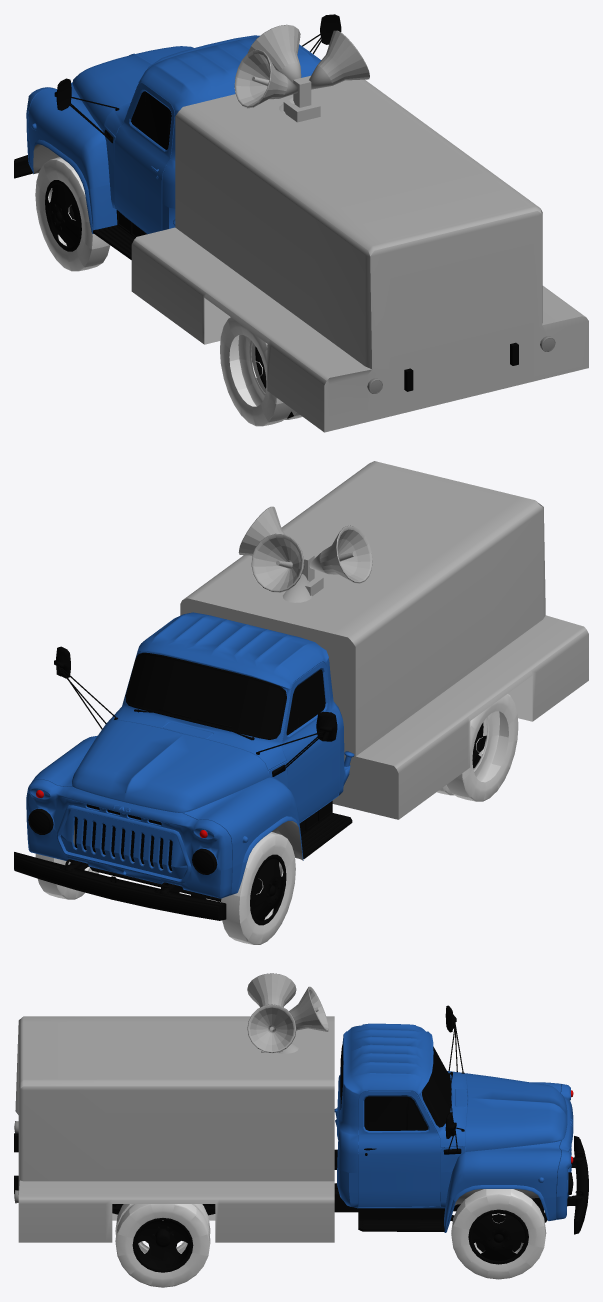
The model's file is ice cream truck.fbx.
The picture shows the model from 3 angles, top to bottom: view 1: azimuth 30°, elevation 25°; view 2: azimuth 150°, elevation 25°; view 3: azimuth 270°, elevation 25°; orthographic projection. The views are drawn at different scales.
Visible parts, largest first — view 1: pCube1, cabina, polySurface1, door_lf_ok, wheel_rb_w, wheel01, bonnet_ok, Object06, chassis, Object01, interior; view 2: pCube1, cabina, FRNT_Latti, bonnet_ok, windscreen, polySurface1, door_lf_ok, bump_front, wheel_rb_w, wheel01, interior, chassis (+5 smaller); view 3: pCube1, cabina, door_rf_ok, bonnet_ok, wheel, polySurface1, wheel_rb, chassis, Object03, Object04, Object02, FRNT_Latti (+4 smaller).
Boxes of the visible parts, x1=… form: pCube1: x1=131, y1=75, x2=588, y2=432; cabina: x1=28, y1=35, x2=321, y2=234; polySurface1: x1=234, y1=24, x2=369, y2=122; door_lf_ok: x1=114, y1=82, x2=174, y2=233; wheel_rb_w: x1=220, y1=317, x2=292, y2=426; wheel01: x1=35, y1=157, x2=110, y2=271; bonnet_ok: x1=72, y1=46, x2=193, y2=130; Object06: x1=45, y1=180, x2=81, y2=251; chassis: x1=93, y1=210, x2=518, y2=391; Object01: x1=132, y1=92, x2=171, y2=149; interior: x1=54, y1=14, x2=341, y2=143; pCube1: x1=180, y1=461, x2=588, y2=819; cabina: x1=32, y1=612, x2=354, y2=895; FRNT_Latti: x1=26, y1=779, x2=232, y2=898; bonnet_ok: x1=72, y1=720, x2=268, y2=812; windscreen: x1=127, y1=655, x2=284, y2=737; polySurface1: x1=238, y1=506, x2=372, y2=595; door_lf_ok: x1=281, y1=662, x2=339, y2=822; bump_front: x1=14, y1=852, x2=226, y2=920; wheel_rb_w: x1=447, y1=694, x2=518, y2=801; wheel01: x1=221, y1=832, x2=295, y2=944; interior: x1=54, y1=646, x2=337, y2=776; chassis: x1=69, y1=800, x2=352, y2=901; pCube1: x1=15, y1=1016, x2=334, y2=1242; cabina: x1=334, y1=1023, x2=561, y2=1232; door_rf_ok: x1=358, y1=1091, x2=440, y2=1206; bonnet_ok: x1=465, y1=1073, x2=567, y2=1151; wheel: x1=451, y1=1189, x2=546, y2=1279; polySurface1: x1=247, y1=973, x2=328, y2=1053; wheel_rb: x1=115, y1=1204, x2=210, y2=1287; chassis: x1=14, y1=1133, x2=576, y2=1231; Object03: x1=468, y1=1209, x2=528, y2=1264; Object04: x1=132, y1=1218, x2=193, y2=1272; Object02: x1=364, y1=1096, x2=426, y2=1130; FRNT_Latti: x1=556, y1=1084, x2=573, y2=1219.
Size of the model in its own units: 265 by 270 by 566.
